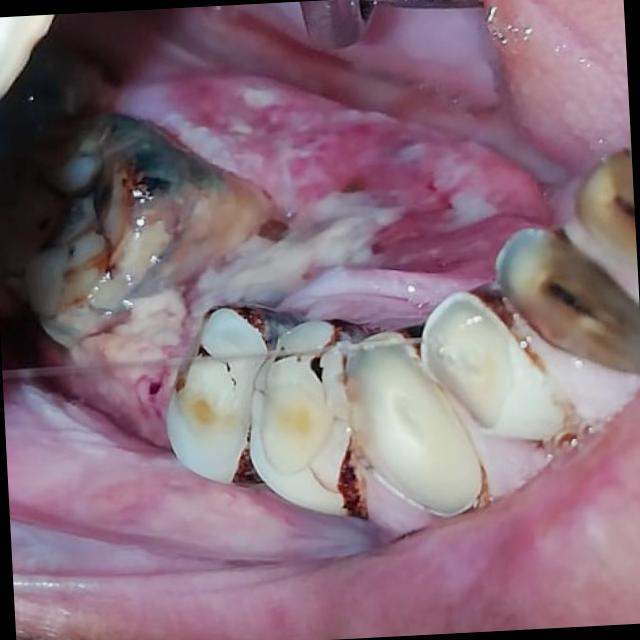Cancer: (0, 32, 549, 438)
